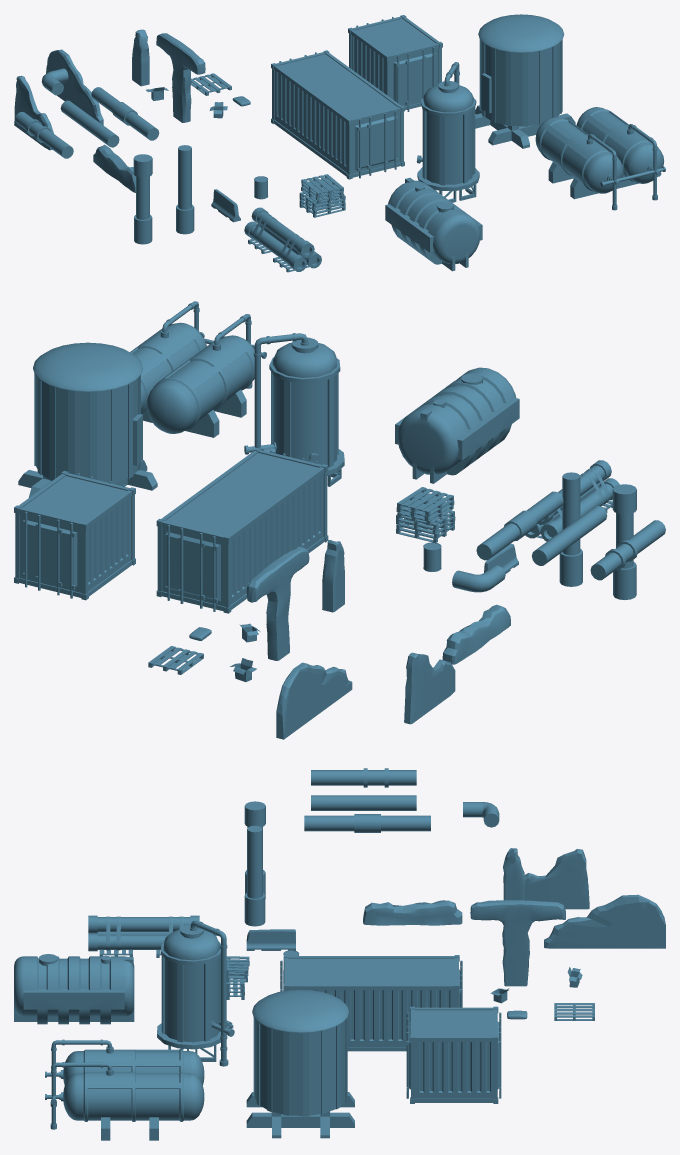
Rendered from GJ_Decor_Texturing.fbx.
3 views of the same model, one above another, from view 1: azimuth 30°, elevation 25°; view 2: azimuth 150°, elevation 25°; view 3: azimuth 270°, elevation 25° (orthographic). The views are drawn at different scales.
Visible parts, largest first — view 1: GJ_Decor_Contener_01, GJ_Decor_Tank_01, GJ_Decor_Tank_02, GJ_Decor_Contener_02, GJ_Decor_Tank_04, GJ_Decor_Tank_03, GJ_Decor_PipePile, GJ_Decor_Wall_05, GJ_Decor_PaletPile, GJ_Decor_Wall_01, GJ_Decor_Pile_02, GJ_Decor_Pile_01 (+9 smaller); view 2: GJ_Decor_Contener_01, GJ_Decor_Tank_01, GJ_Decor_Contener_02, GJ_Decor_Tank_02, GJ_Decor_Tank_04, GJ_Decor_Tank_03, GJ_Decor_Wall_01, GJ_Decor_Wall_05, GJ_Decor_Wall_02, GJ_Decor_PaletPile, GJ_Decor_PipePile, GJ_Decor_Pile_02 (+8 smaller); view 3: GJ_Decor_Tank_01, GJ_Decor_Tank_02, GJ_Decor_Contener_01, GJ_Decor_Contener_02, GJ_Decor_Tank_04, GJ_Decor_Tank_03, GJ_Decor_Wall_01, GJ_Decor_Wall_05, GJ_Decor_PipePile, GJ_Decor_Wall_02, GJ_Decor_Pile_03, GJ_Decor_Wall_03 (+9 smaller).
Boxes of the visible parts, left/top/right/bottom form: GJ_Decor_Contener_01: left=271, top=50, right=404, bottom=179; GJ_Decor_Tank_01: left=475, top=14, right=575, bottom=148; GJ_Decor_Tank_02: left=535, top=107, right=665, bottom=210; GJ_Decor_Contener_02: left=348, top=15, right=442, bottom=111; GJ_Decor_Tank_04: left=416, top=62, right=479, bottom=202; GJ_Decor_Tank_03: left=385, top=177, right=482, bottom=271; GJ_Decor_PipePile: left=244, top=207, right=321, bottom=272; GJ_Decor_Wall_05: left=156, top=33, right=205, bottom=122; GJ_Decor_PaletPile: left=299, top=174, right=345, bottom=217; GJ_Decor_Wall_01: left=46, top=49, right=103, bottom=125; GJ_Decor_Pile_02: left=133, top=154, right=152, bottom=244; GJ_Decor_Pile_01: left=176, top=145, right=194, bottom=234; GJ_Decor_Contener_01: left=156, top=447, right=328, bottom=613; GJ_Decor_Tank_01: left=18, top=342, right=157, bottom=497; GJ_Decor_Contener_02: left=14, top=471, right=135, bottom=600; GJ_Decor_Tank_02: left=130, top=301, right=266, bottom=437; GJ_Decor_Tank_04: left=244, top=333, right=344, bottom=486; GJ_Decor_Tank_03: left=395, top=367, right=519, bottom=483; GJ_Decor_Wall_01: left=276, top=662, right=352, bottom=739; GJ_Decor_Wall_05: left=246, top=546, right=309, bottom=660; GJ_Decor_Wall_02: left=404, top=652, right=455, bottom=724; GJ_Decor_PaletPile: left=396, top=487, right=455, bottom=542; GJ_Decor_PipePile: left=525, top=460, right=619, bottom=541; GJ_Decor_Pile_02: left=612, top=484, right=636, bottom=599; GJ_Decor_Tank_01: left=246, top=989, right=354, bottom=1138; GJ_Decor_Tank_02: left=45, top=1039, right=204, bottom=1140; GJ_Decor_Contener_01: left=280, top=955, right=462, bottom=1051; GJ_Decor_Contener_02: left=406, top=1006, right=501, bottom=1103; GJ_Decor_Tank_04: left=157, top=920, right=234, bottom=1066; GJ_Decor_Tank_03: left=14, top=954, right=134, bottom=1024; GJ_Decor_Wall_01: left=544, top=894, right=665, bottom=948; GJ_Decor_Wall_05: left=470, top=900, right=565, bottom=986; GJ_Decor_PipePile: left=88, top=915, right=199, bottom=957; GJ_Decor_Wall_02: left=524, top=849, right=589, bottom=909; GJ_Decor_Pile_03: left=304, top=814, right=430, bottom=832; GJ_Decor_Wall_03: left=363, top=900, right=462, bottom=925.
Size of the model in its own units: 173 by 39.3 by 172.
